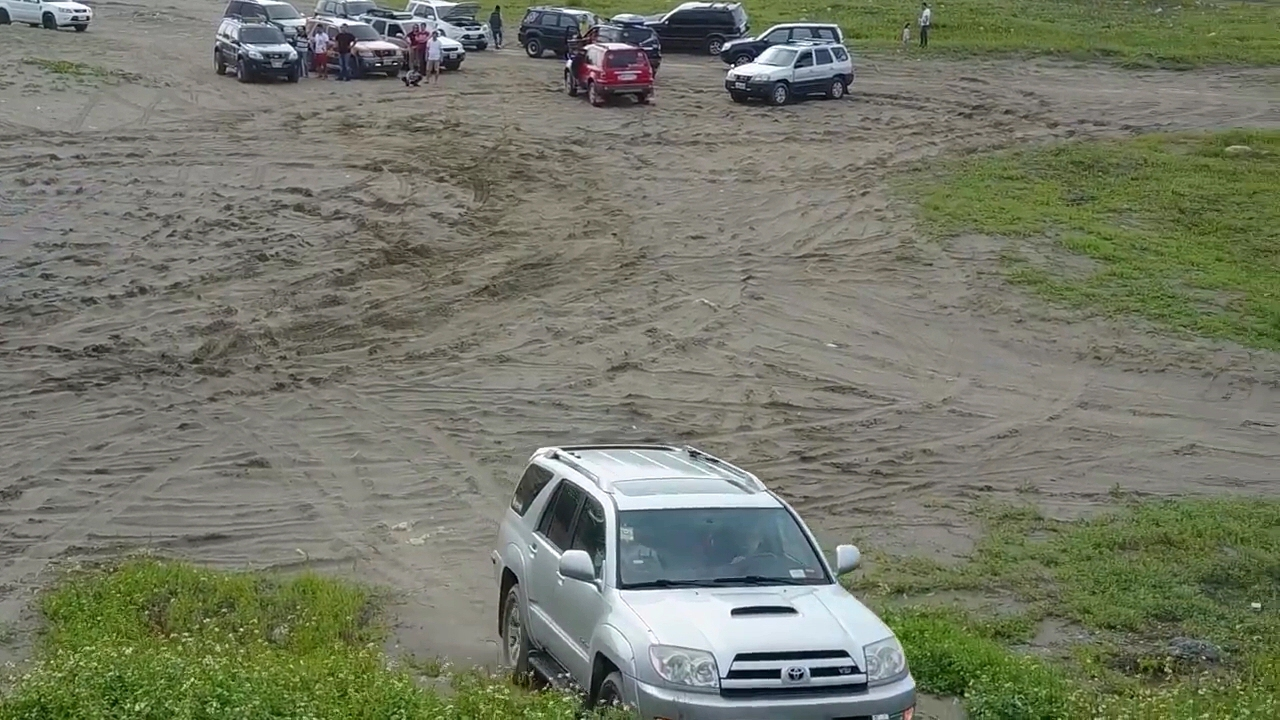araba: (486, 436, 917, 720), (720, 33, 860, 108), (636, 1, 754, 55), (721, 18, 846, 66), (211, 16, 299, 84), (559, 39, 648, 106), (579, 18, 657, 80), (520, 3, 611, 56), (407, 1, 492, 48), (217, 3, 309, 36), (1, 2, 98, 32)
insan: (292, 16, 313, 81), (312, 22, 335, 81), (336, 19, 356, 81), (427, 27, 444, 84), (407, 19, 422, 83), (916, 2, 935, 48), (489, 2, 501, 53), (419, 17, 427, 77), (903, 22, 911, 52)
